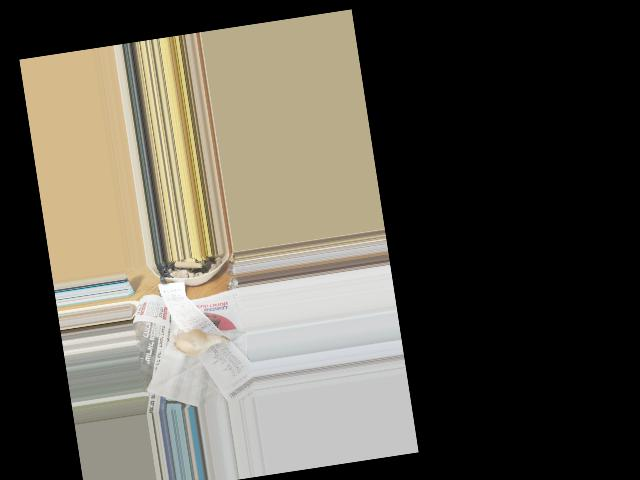onion: (173, 328, 218, 356)
